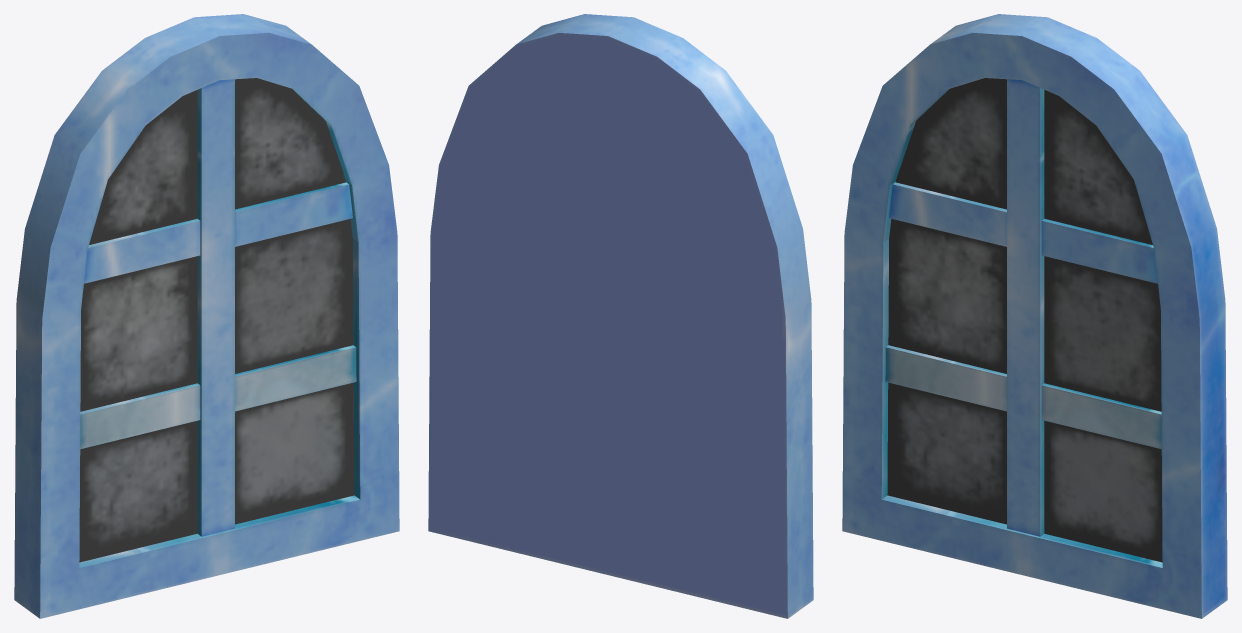
Rendered from sb_obj_outdoor023_IceCastle01_window00.fbx.
3 renders of one model, left to right at view 1: azimuth 30°, elevation 25°; view 2: azimuth 150°, elevation 25°; view 3: azimuth 330°, elevation 25°, orthographic.
Visible parts, largest first — view 1: sb_obj_outdoor023_IceCastle01_window00; view 2: sb_obj_outdoor023_IceCastle01_window00; view 3: sb_obj_outdoor023_IceCastle01_window00.
Part boxes in pixels (left/top/right/bottom): sb_obj_outdoor023_IceCastle01_window00: left=14, top=14, right=399, bottom=618; sb_obj_outdoor023_IceCastle01_window00: left=428, top=14, right=813, bottom=618; sb_obj_outdoor023_IceCastle01_window00: left=842, top=14, right=1227, bottom=618.
Bounding box in the file's own units: 1.05 × 1.51 × 0.1305.
